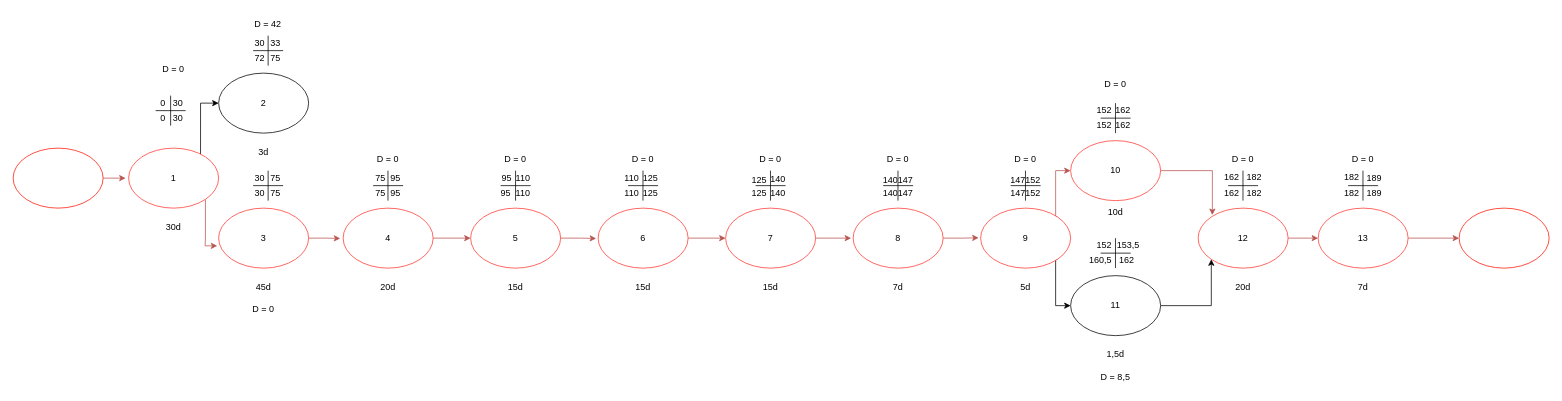
Image size: 1562x401. Some labels were removed from this diagram. Each missing label, with the centre of its shape:
fin: point (1503, 237)
inicio: point (57, 177)
